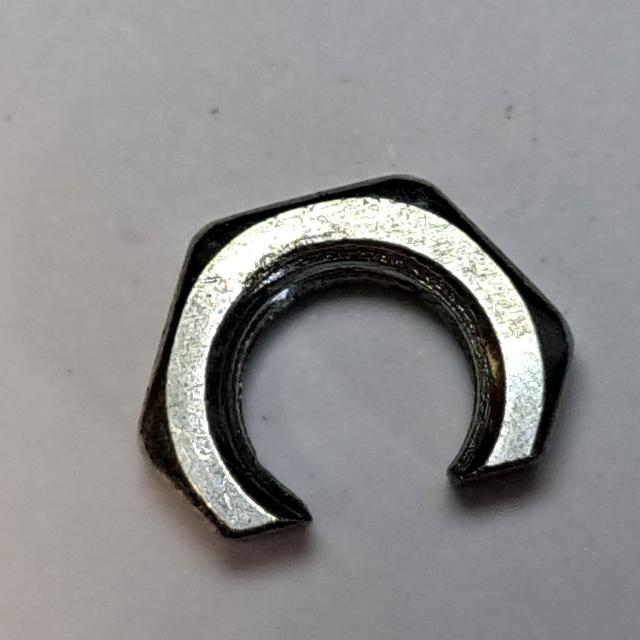Fracture: (122, 164, 591, 559)
